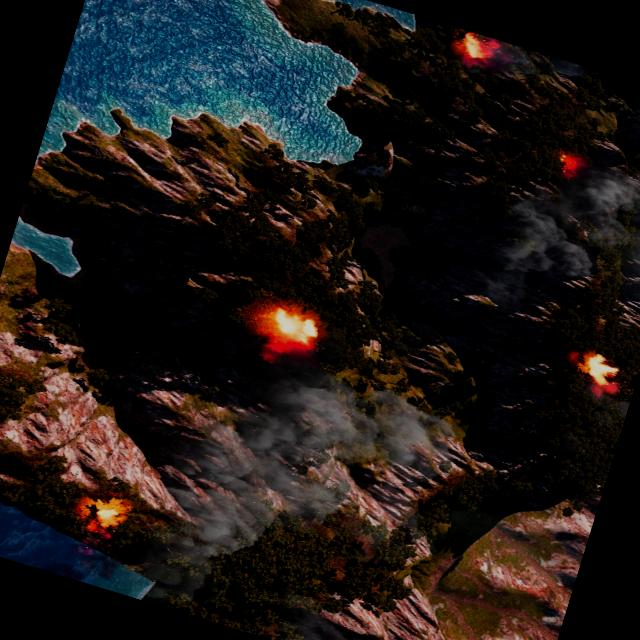fire: (71, 490, 130, 540), (268, 304, 320, 349), (578, 348, 623, 388), (552, 151, 582, 180), (458, 30, 486, 59)
smoke: (49, 290, 477, 640), (464, 99, 640, 344), (442, 26, 584, 104), (570, 374, 634, 424)
